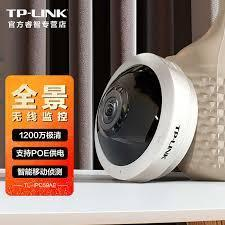maru: (94, 54, 198, 182)
